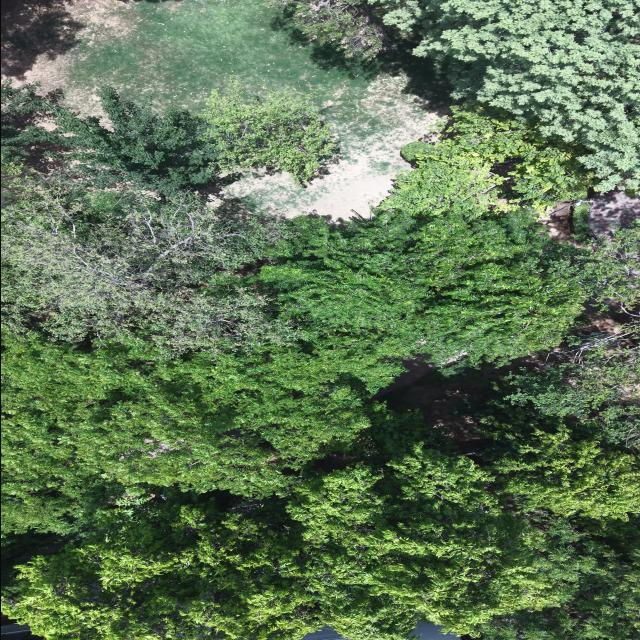DRY_AREA: (1, 0, 436, 219)
VEGETATION_TREE: (1, 41, 639, 639), (259, 111, 587, 366), (1, 333, 372, 532), (1, 180, 304, 356), (371, 0, 639, 190), (509, 228, 639, 449), (1, 84, 217, 193), (481, 531, 639, 639), (201, 84, 337, 186), (269, 0, 390, 59)
WATERBODY: (21, 0, 435, 218)
